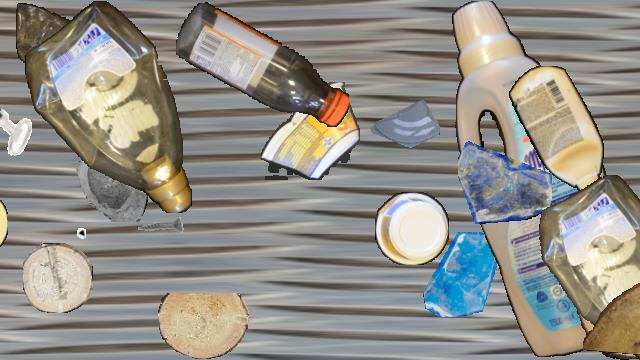glass: (458, 130, 552, 224), (61, 132, 151, 222), (421, 232, 505, 316), (371, 93, 439, 161)
metal: (573, 150, 635, 212), (133, 204, 185, 256), (36, 199, 86, 249), (0, 107, 35, 155)
plastic: (450, 1, 640, 357), (25, 1, 193, 213), (176, 1, 348, 129), (534, 175, 640, 359), (509, 66, 603, 194), (261, 82, 359, 180), (375, 192, 449, 264), (16, 1, 90, 71), (0, 183, 7, 261)
wood: (575, 253, 640, 359), (158, 293, 248, 359), (583, 265, 640, 359), (23, 243, 93, 313)
